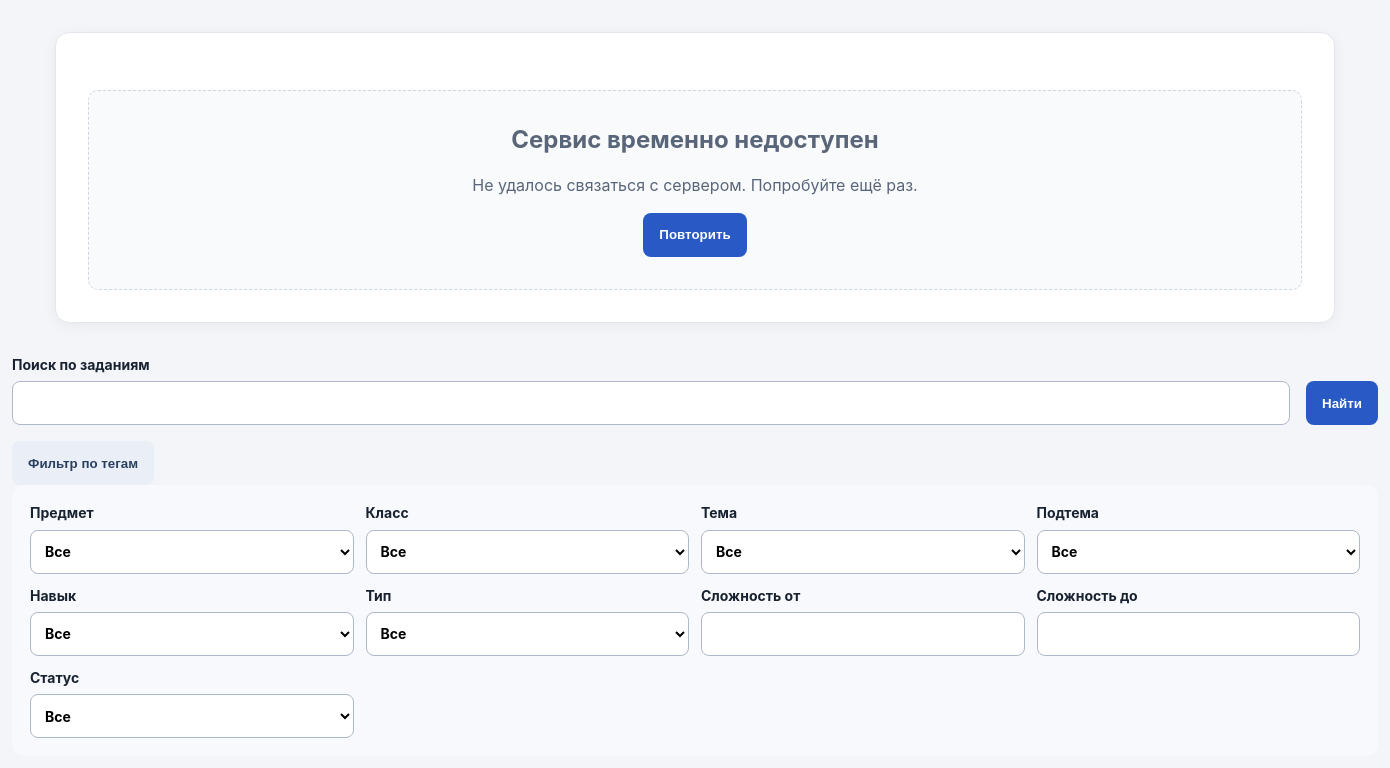
Content Bank search › shows an empty state containing the actual query
In the field labelled "Поиск по заданиям": x=651, y=403 [12,381,1290,425], type "редкий запрос"
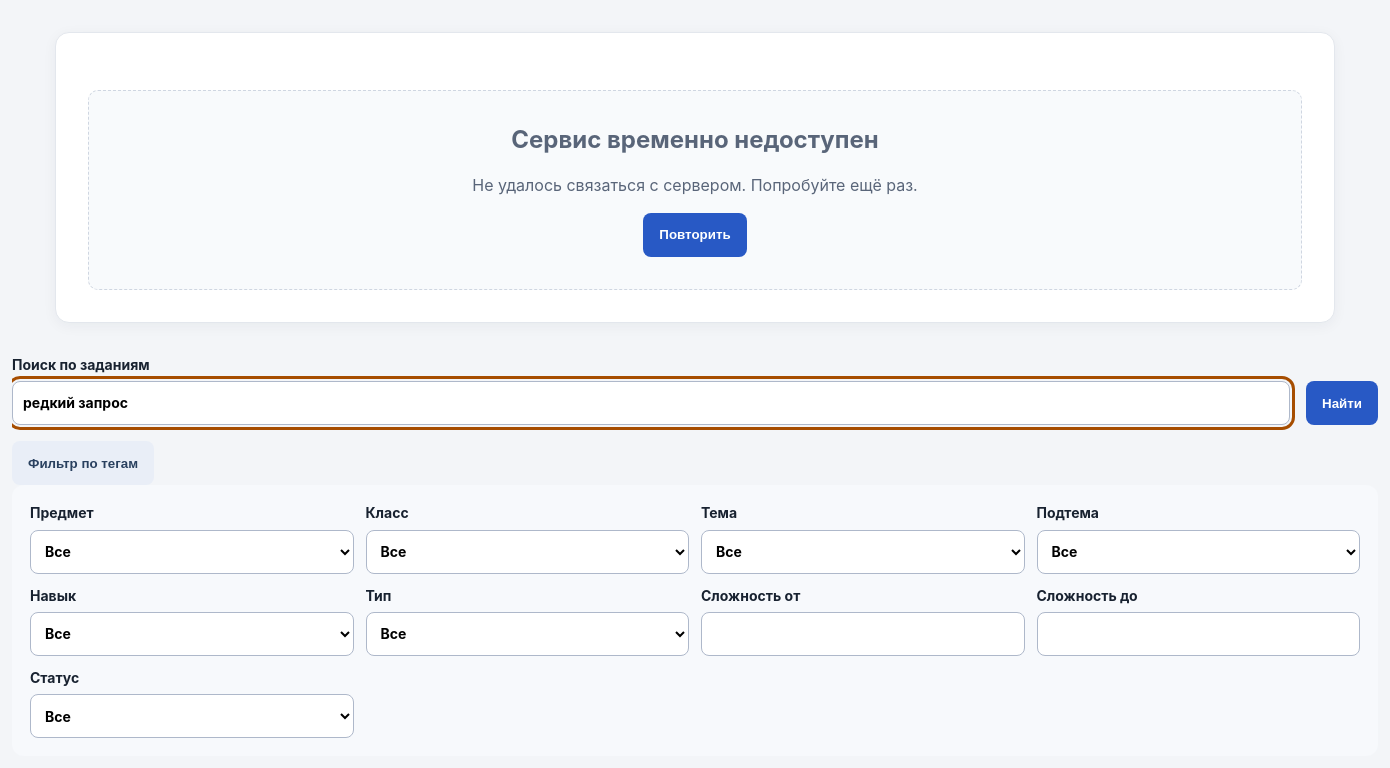
Click the button "Найти": x=1342, y=403 [1306,381,1378,425]
(page scrolled)
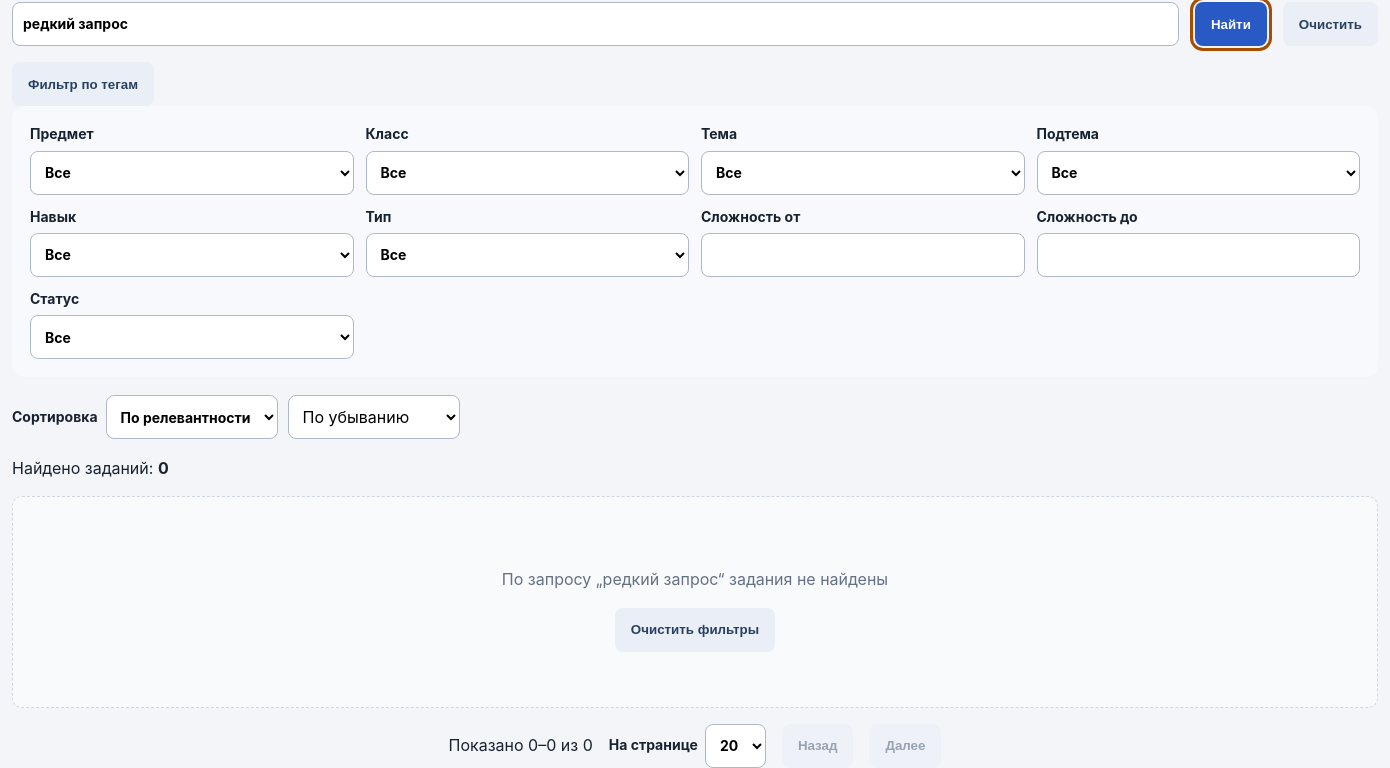
Expected: the text "По запросу „редкий запрос“ задания не найдены" is shown, [502,569,888,589]
